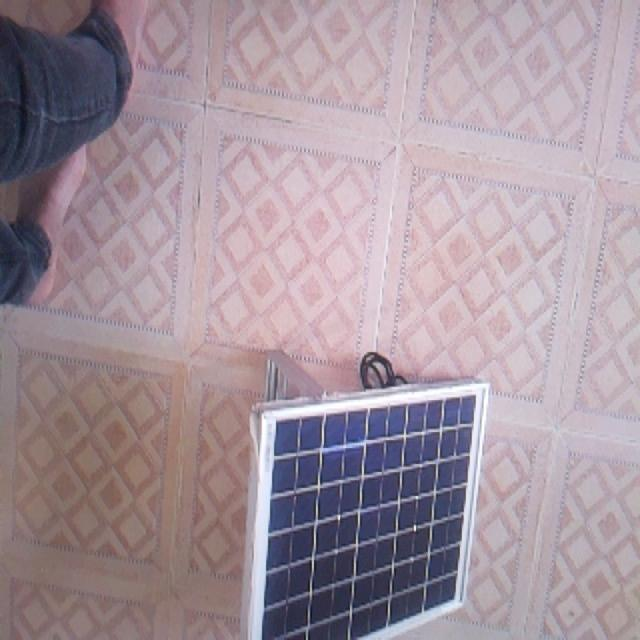Normal Solar Panel: (245, 384, 489, 640)
